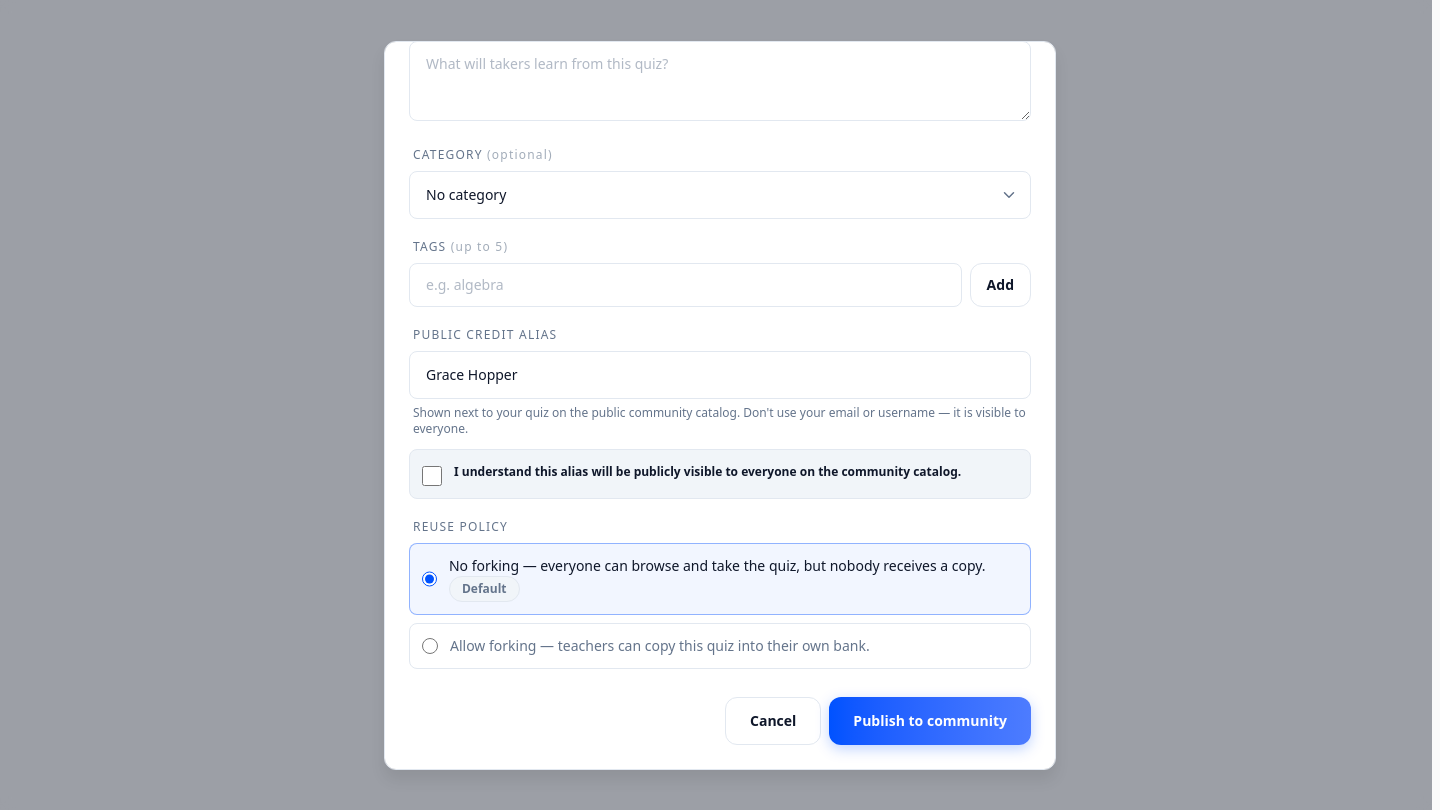
Test: PublishToCommunityDialog › shows the ALLOW_FORK consent warning only when forking is selected
The width and height of the screenshot is (1440, 810).
(page scrolled)
Click the radio button labelled "Allow forking": (430, 646) [422, 638, 438, 654]
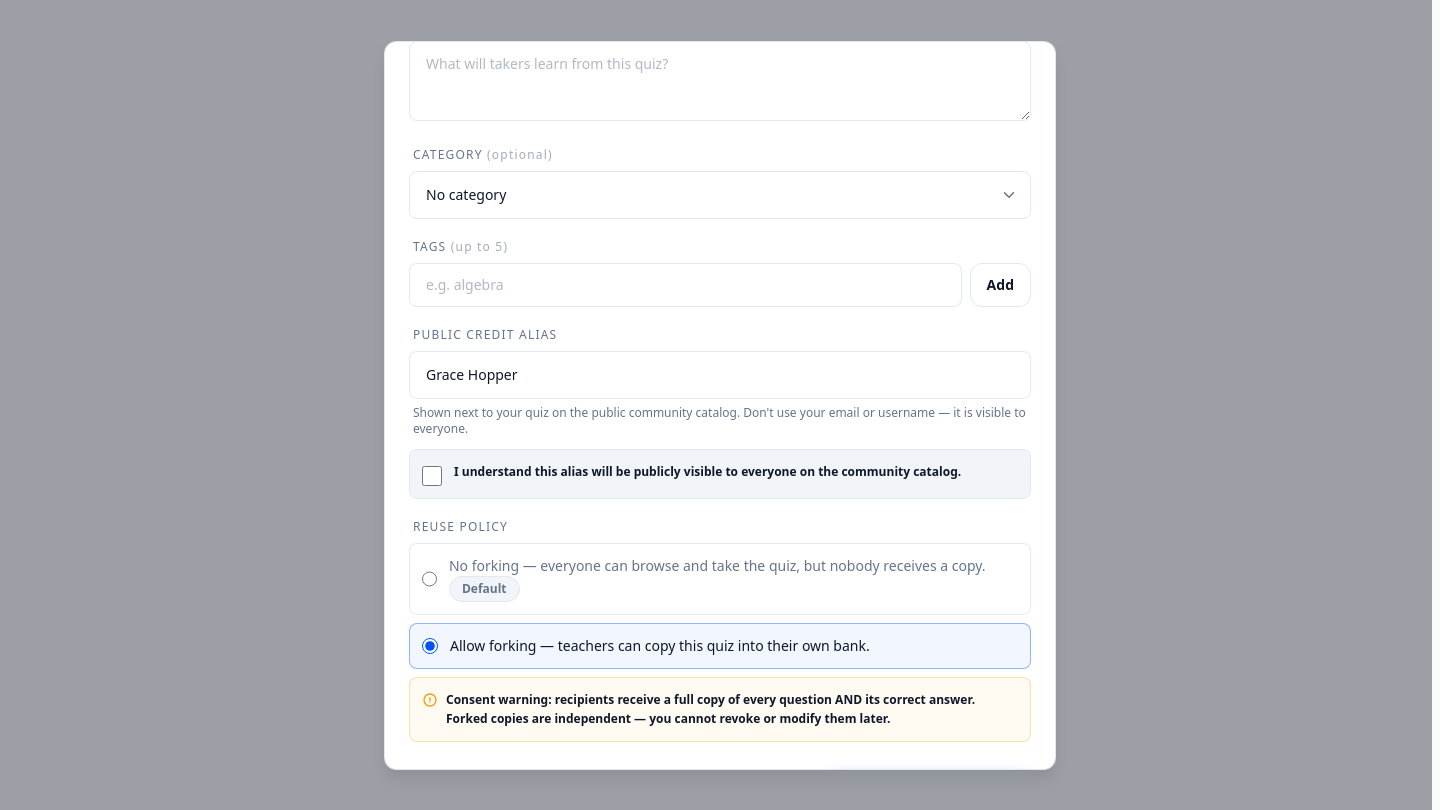
Now the radio button labelled "Allow forking" is checked, box [422, 638, 438, 654]
Now the text "full copy of every question AND its correct answer" is shown, box [446, 690, 975, 727]
